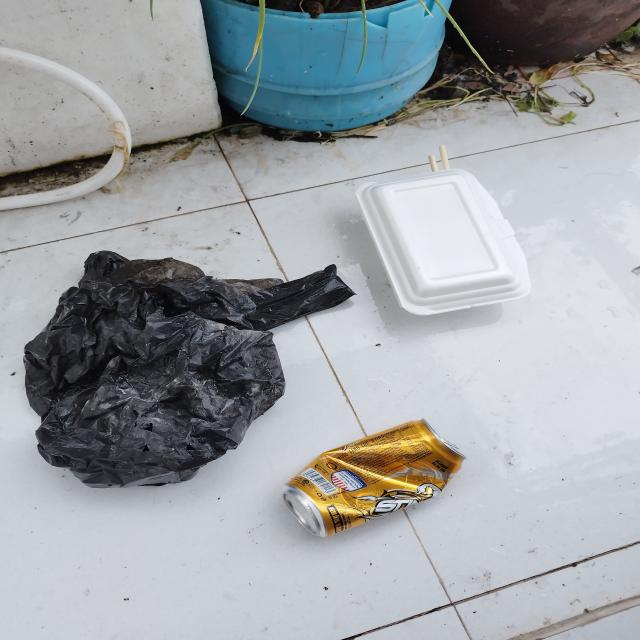bag: (23, 249, 361, 490)
can: (280, 417, 468, 539)
foam box: (355, 168, 530, 318)
